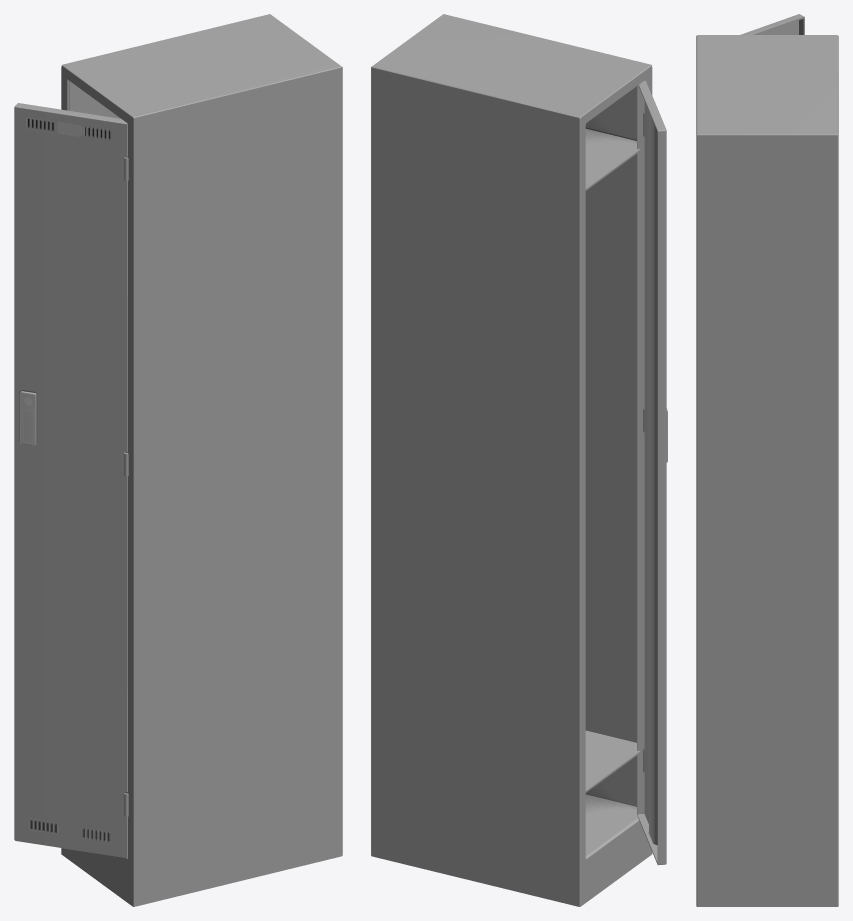
The model's file is SM_Lockers_01_Open_01.fbx.
3 renders of one model, left to right at view 1: azimuth 30°, elevation 25°; view 2: azimuth 150°, elevation 25°; view 3: azimuth 270°, elevation 25°, orthographic. The views are drawn at different scales.
Visible parts, largest first — view 1: SM_Lockers_01_Open_01_LOD0; view 2: SM_Lockers_01_Open_01_LOD0; view 3: SM_Lockers_01_Open_01_LOD0.
Boxes of the visible parts, x1=… form: SM_Lockers_01_Open_01_LOD0: x1=14, y1=14, x2=342, y2=906; SM_Lockers_01_Open_01_LOD0: x1=371, y1=14, x2=667, y2=906; SM_Lockers_01_Open_01_LOD0: x1=696, y1=14, x2=838, y2=906.
Bounding box in the file's own units: 65.81 × 30 × 180.
